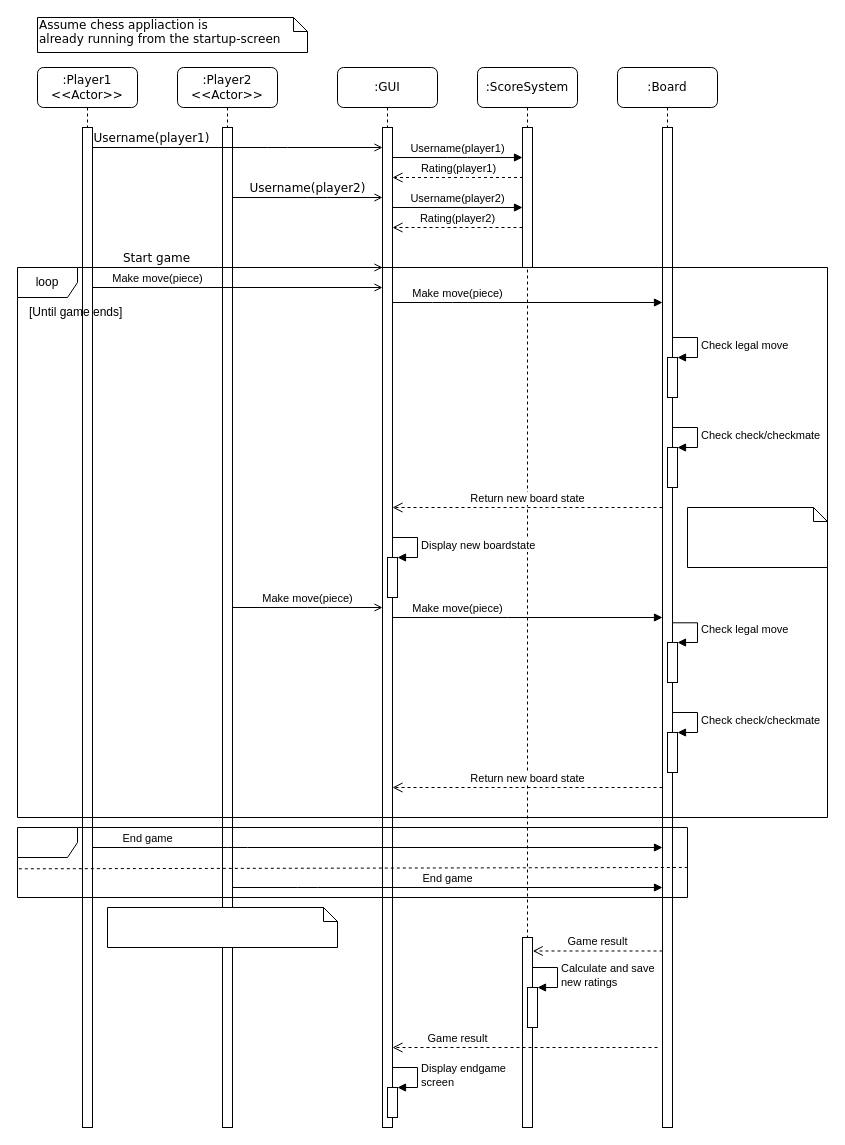
The diagram is 845 pixels wide and 1145 high, and some of its shapes have lost their labels. Here are the shapes that lost their labels. From the top down, the centre of each, then its label:
point (757, 537): When a move is made a new board is created from the new board- state
point (352, 862): alt
point (222, 927): One of the players end by checkmate, stalemate or quitting.
